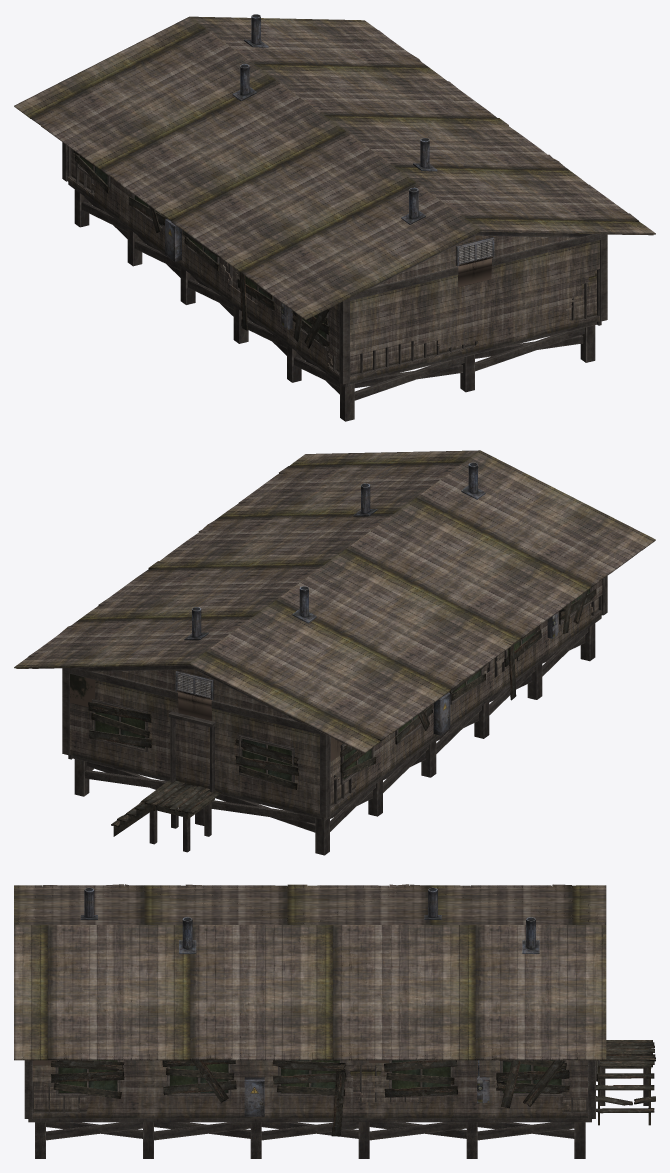
Rendered from Barracks01.fbx.
The picture shows the model from 3 angles, top to bottom: view 1: azimuth 30°, elevation 25°; view 2: azimuth 150°, elevation 25°; view 3: azimuth 270°, elevation 25°; orthographic projection.
Visible parts, largest first — view 1: group1, barracks01:0; view 2: group1, barracks01:0; view 3: group1, barracks01:0.
Part boxes in pixels (<box>): group1: <box>14,14,655,381</box>; barracks01:0: <box>62,142,631,421</box>; group1: <box>14,450,655,815</box>; barracks01:0: <box>32,576,607,855</box>; group1: <box>14,884,606,1118</box>; barracks01:0: <box>24,1040,655,1158</box>.
Size of the model in its own units: 889 by 462 by 1384.
Materials: 10 (10 with a texture image).
